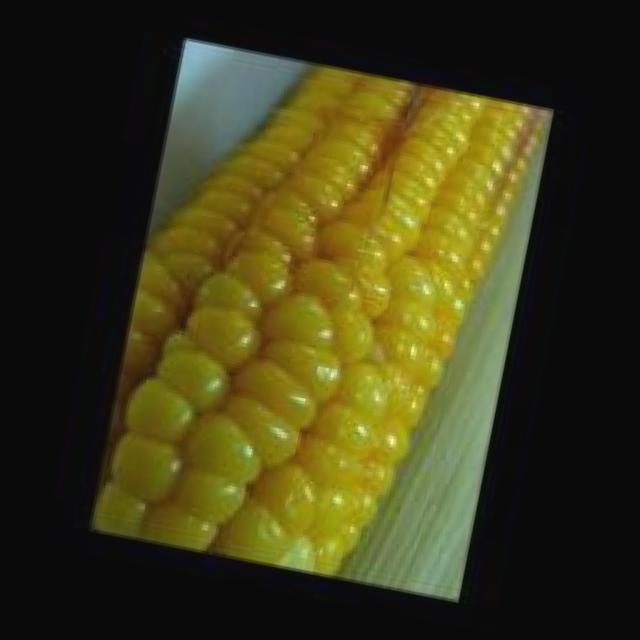corn: (84, 63, 549, 575)
